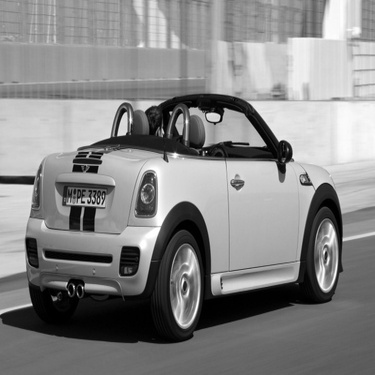car: (11, 73, 356, 344)
